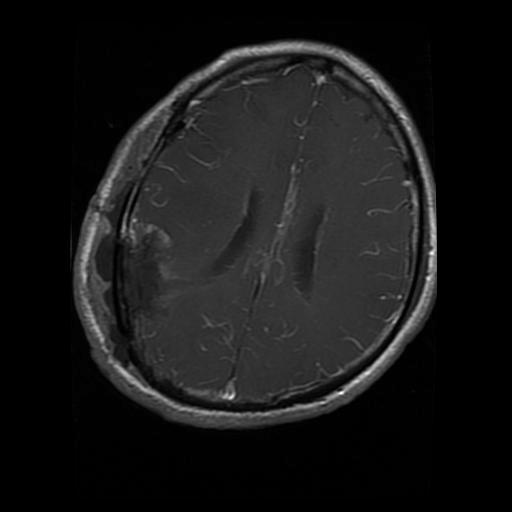Tumour-Glioma: (98, 230, 191, 340)
